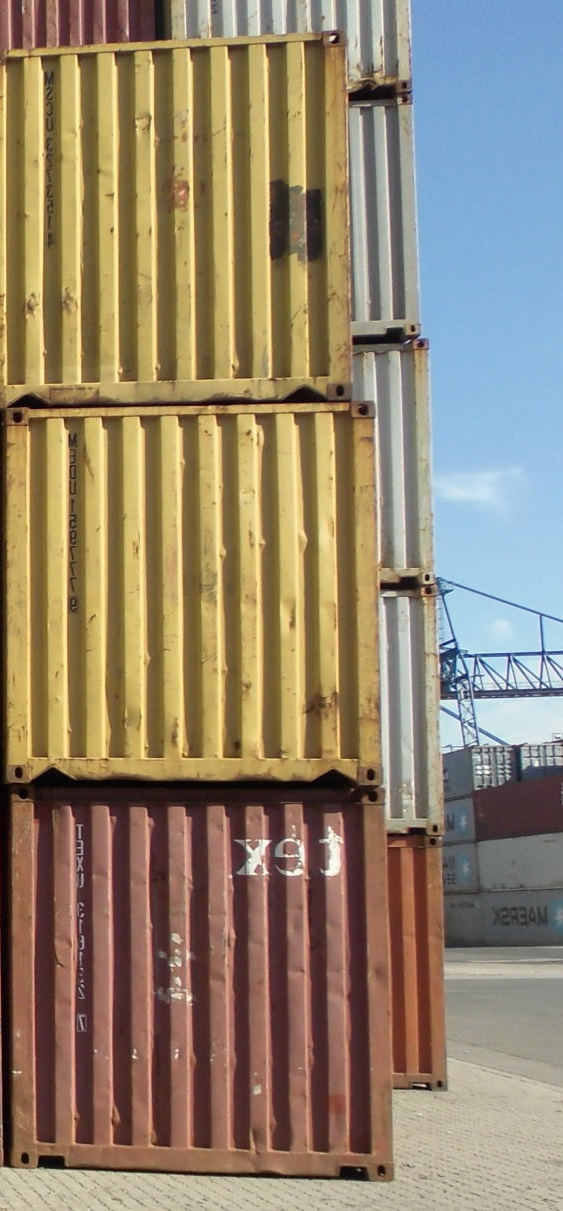container_no_door: (4, 404, 383, 790), (7, 794, 385, 1180), (6, 43, 358, 403)
